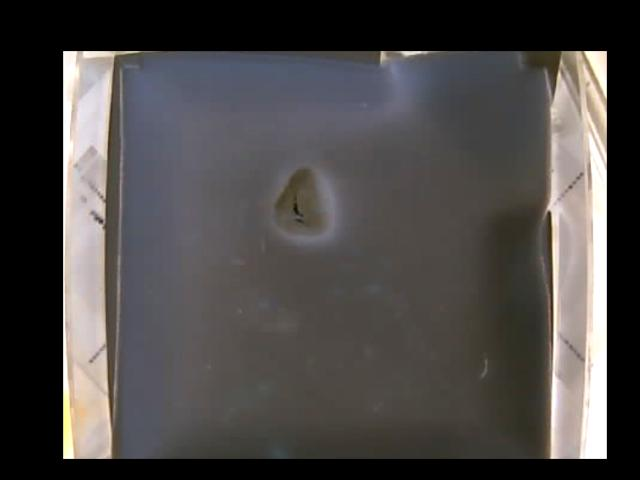Pebble: (272, 165, 330, 242)
